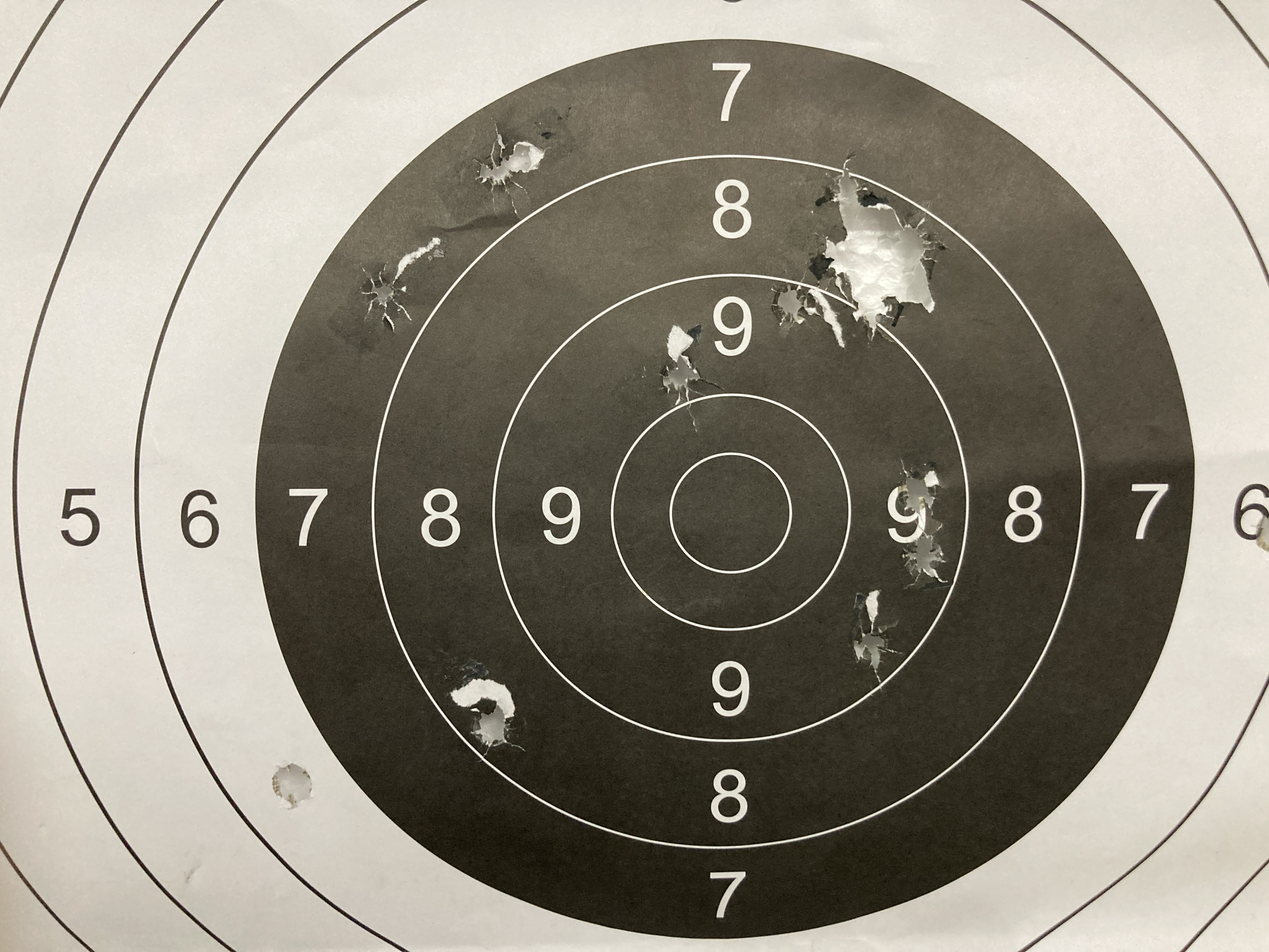hole: (809, 143, 956, 330), (468, 112, 557, 205), (827, 608, 914, 690), (886, 526, 965, 601), (253, 746, 329, 822), (886, 453, 961, 530), (456, 692, 535, 764), (636, 343, 717, 411), (351, 255, 421, 329), (757, 269, 820, 329), (1250, 507, 1269, 566)
